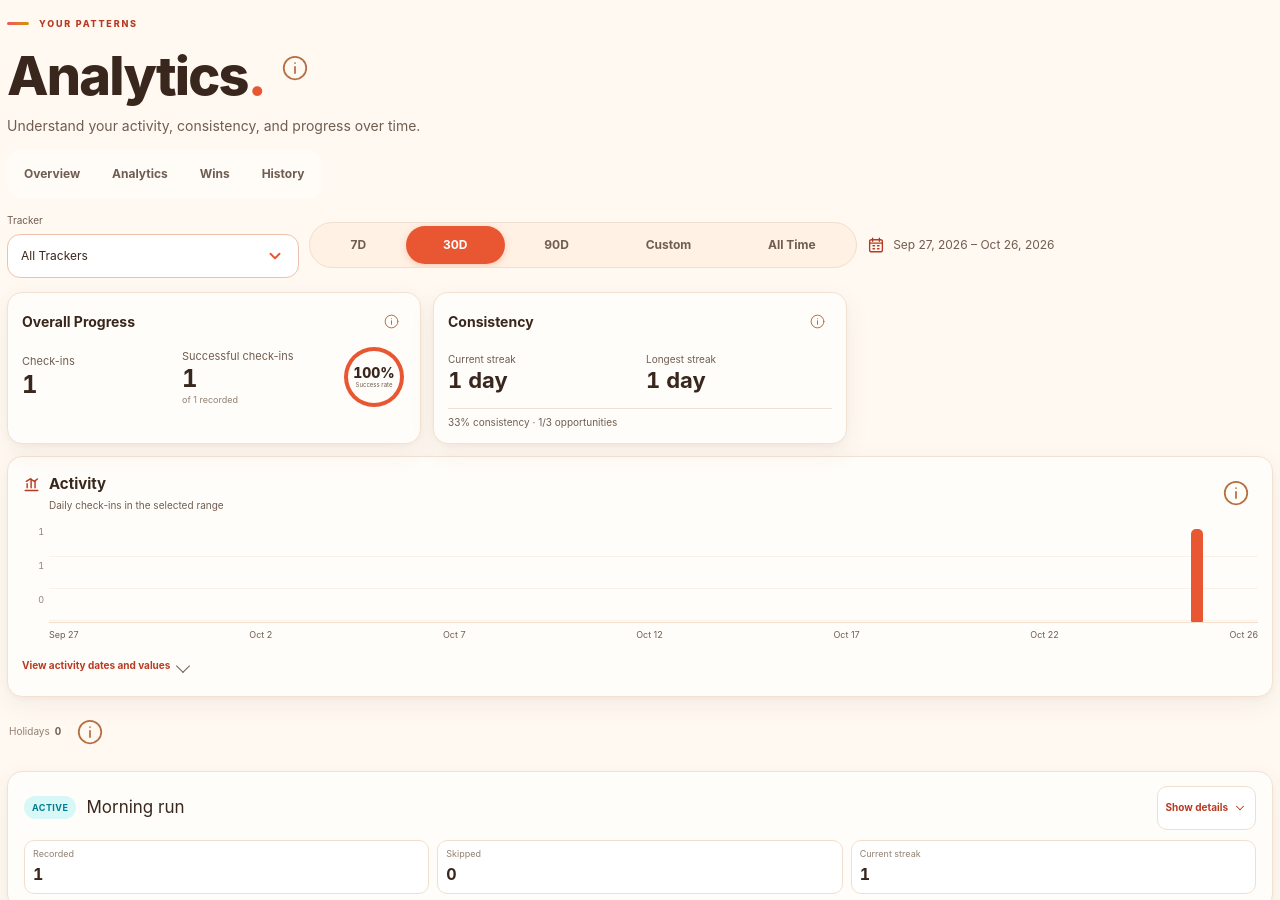
Test: Analytics page › groups summaries by definition while keeping account-wide context and tracker detail separate
Expected: the text "Check-ins" is shown, [22, 354, 75, 368]
Expected: the text "Successful check-ins" is shown, [182, 348, 294, 362]
Click the button "Show details".
click(1206, 808)  # box [1157, 786, 1256, 830]
(page scrolled)
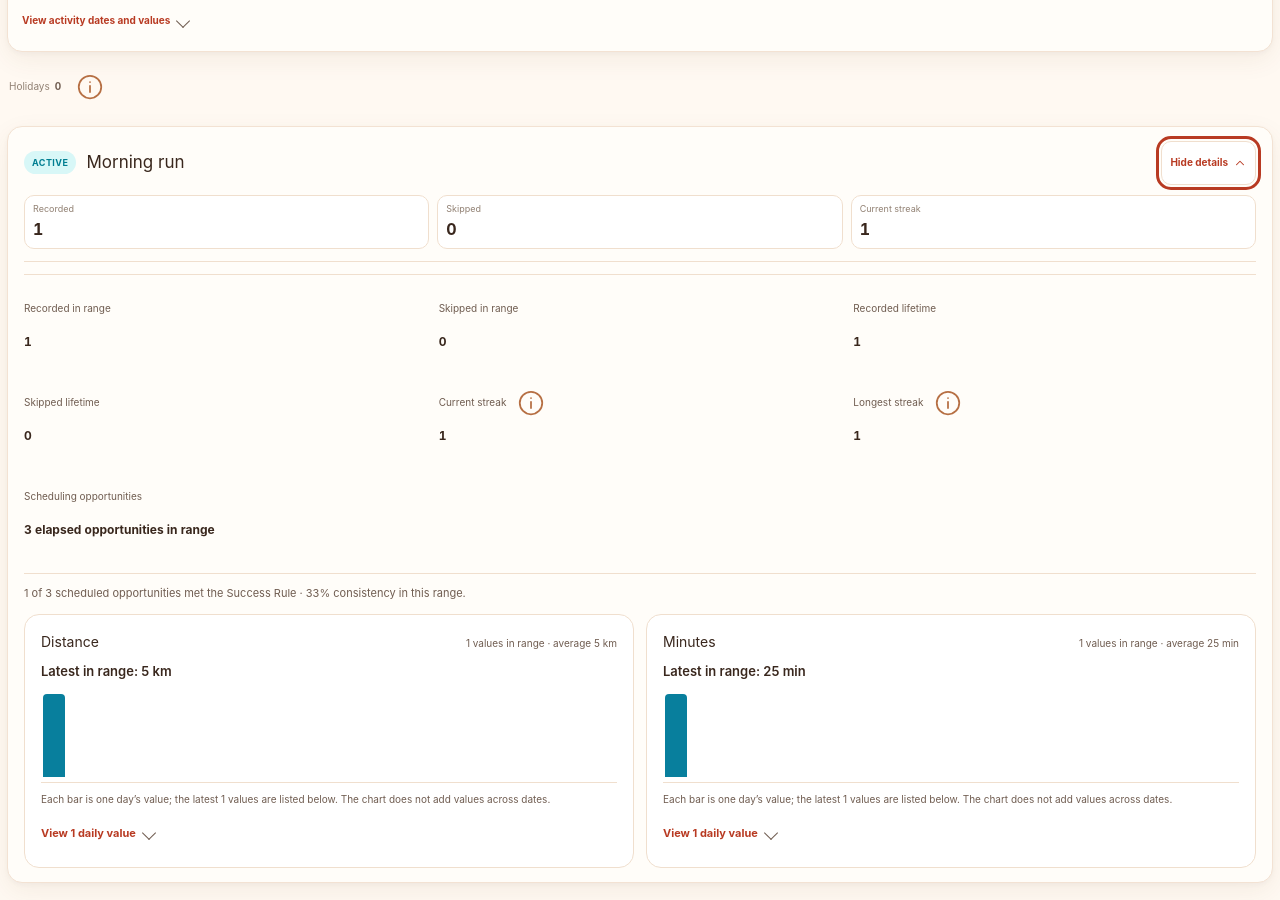
Result: the text "Longest streak" is shown at [853, 396, 923, 410]
Result: the text "Scheduling opportunities" is shown at [24, 490, 142, 504]
